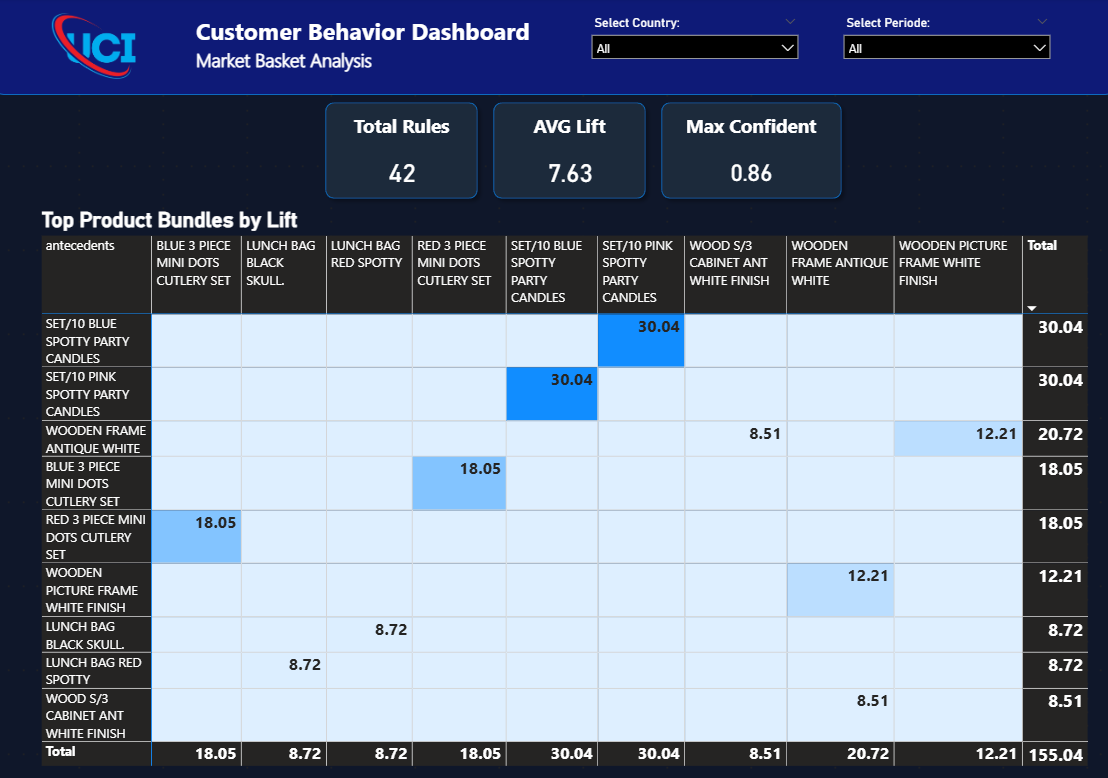

The page's visual inventory and layout, read from the dashboard file:
{"tool":"powerbi","page":{"name":"Market Basket Analysis","canvas":[1280,900],"ordinal":2},"visuals":[{"type":"shape","box":[0,0,1280,112],"z":0},{"type":"shape","box":[368,112,192,128],"z":0,"group":"g3"},{"type":"textbox","box":[224,16,448,80],"z":1000},{"type":"shape","box":[560,112,192,128],"z":1000,"group":"g2"},{"type":"image","box":[32,16,160,80],"z":2000},{"type":"slicer","fields":{"Values":["cleaned_data.Country"]},"box":[672,16,256,80],"z":3000},{"type":"slicer","fields":{"Values":["cleaned_data.Year"]},"box":[960,16,256,80],"z":4000},{"type":"shape","box":[752,112,224,128],"z":4000,"group":"g1"},{"type":"pivotTable","title":"Top Product Bundles by Lift","fields":{"Rows":["mba_rules.antecedents"],"Values":["Sum(mba_rules.lift)"],"Columns":["mba_rules.consequents"]},"box":[48,240,1216,656],"z":5000},{"type":"group","id":"g1","title":"Group 2","box":[752,112,224,128],"z":6000},{"type":"group","id":"g2","title":"Group 1","box":[560,112,192,128],"z":7000},{"type":"card","fields":{"Values":["Measure.Max Confidence"]},"box":[816,176,96,48],"z":7000,"group":"g1"},{"type":"group","id":"g3","title":"Group 3","box":[368,112,192,128],"z":8000},{"type":"card","fields":{"Values":["Measure.Avg Lift"]},"box":[592,176,128,48],"z":10000,"group":"g2"},{"type":"textbox","box":[560,128,192,48],"z":13000,"group":"g2"},{"type":"textbox","box":[768,128,192,48],"z":15000,"group":"g1"},{"type":"textbox","box":[368,128,192,48],"z":16000,"group":"g3"},{"type":"card","fields":{"Values":["Measure.Total Rules"]},"box":[400,176,128,48],"z":17000,"group":"g3"}]}

Visuals, with their boxes in screenshot pixels (x1, y1, x2, y2), scaled from the page's 1280x900 canvas onto the 1108x778 screenshot:
shape: rect(0, 0, 1107, 97)
shape: rect(319, 97, 485, 207)
textbox: rect(194, 14, 582, 83)
shape: rect(485, 97, 651, 207)
image: rect(28, 14, 166, 83)
slicer - cleaned_data.Country: rect(582, 14, 803, 83)
slicer - cleaned_data.Year: rect(831, 14, 1053, 83)
shape: rect(651, 97, 845, 207)
"Top Product Bundles by Lift" pivotTable: rect(42, 207, 1094, 775)
"Group 2" group: rect(651, 97, 845, 207)
"Group 1" group: rect(485, 97, 651, 207)
card - Measure.Max Confidence: rect(706, 152, 789, 194)
"Group 3" group: rect(319, 97, 485, 207)
card - Measure.Avg Lift: rect(512, 152, 623, 194)
textbox: rect(485, 111, 651, 152)
textbox: rect(665, 111, 831, 152)
textbox: rect(319, 111, 485, 152)
card - Measure.Total Rules: rect(346, 152, 457, 194)
